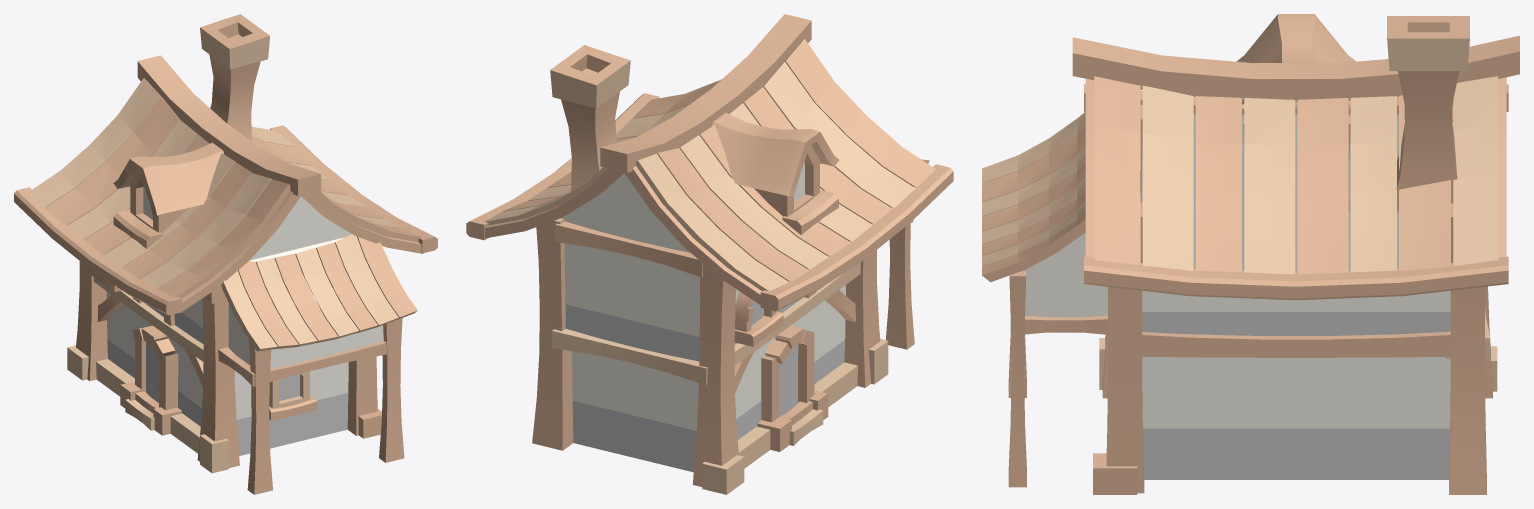
Rendered from tap fire house.fbx.
3 renders of one model, left to right at view 1: azimuth 30°, elevation 25°; view 2: azimuth 150°, elevation 25°; view 3: azimuth 270°, elevation 25°, orthographic. The views are drawn at different scales.
Parts seen in each view (by area): view 1: polySurface2, polySurface96 (×3), polySurface93 (×3), polySurface92 (×3), polySurface5, polySurface12, polySurface71, polySurface95 (×2), polySurface94 (×2), polySurface4, polySurface91 (×2), polySurface72 (+27 smaller); view 2: polySurface3, polySurface2, polySurface5, polySurface12, polySurface39, polySurface71, polySurface6, polySurface93 (×2), polySurface95 (×2), polySurface92 (×2), polySurface72, polySurface91 (+25 smaller); view 3: polySurface2, polySurface5, polySurface3, polySurface87, polySurface71, polySurface97 (×2), polySurface93 (×2), polySurface98 (×2), polySurface95 (×2), polySurface92 (×2), polySurface91 (×2), polySurface94 (×2) (+11 smaller).
Boxes of the visible parts, x1,y1,x2,y2 form: polySurface2: (106,291,348,455); polySurface96 (×3): (45,96,311,348); polySurface93 (×3): (158,179,421,319); polySurface92 (×3): (29,78,294,351); polySurface5: (137,55,321,195); polySurface12: (113,142,223,232); polySurface71: (200,14,269,141); polySurface95 (×2): (140,173,398,327); polySurface94 (×2): (123,162,377,332); polySurface4: (197,298,239,467); polySurface91 (×2): (67,120,317,346); polySurface72: (14,187,181,315); polySurface3: (561,173,803,361); polySurface2: (572,285,845,472); polySurface5: (600,14,811,172); polySurface12: (711,113,838,216); polySurface39: (692,263,738,486); polySurface71: (550,45,630,191); polySurface6: (532,218,573,450); polySurface93 (×2): (633,39,935,187); polySurface95 (×2): (616,61,915,207); polySurface92 (×2): (485,153,788,291); polySurface72: (760,164,953,311); polySurface91: (679,135,828,269); polySurface2: (1142,356,1450,479); polySurface5: (1072,35,1519,101); polySurface3: (1141,114,1450,335); polySurface87: (1084,256,1508,300); polySurface71: (1387,16,1469,211); polySurface97 (×2): (982,98,1348,274); polySurface93 (×2): (982,76,1140,282); polySurface98 (×2): (982,98,1295,274); polySurface95 (×2): (982,85,1193,270); polySurface92 (×2): (982,76,1498,265); polySurface91 (×2): (982,96,1396,272); polySurface94 (×2): (982,96,1241,272).
Bounding box in the file's own units: 7.36 × 8.36 × 9.06.
